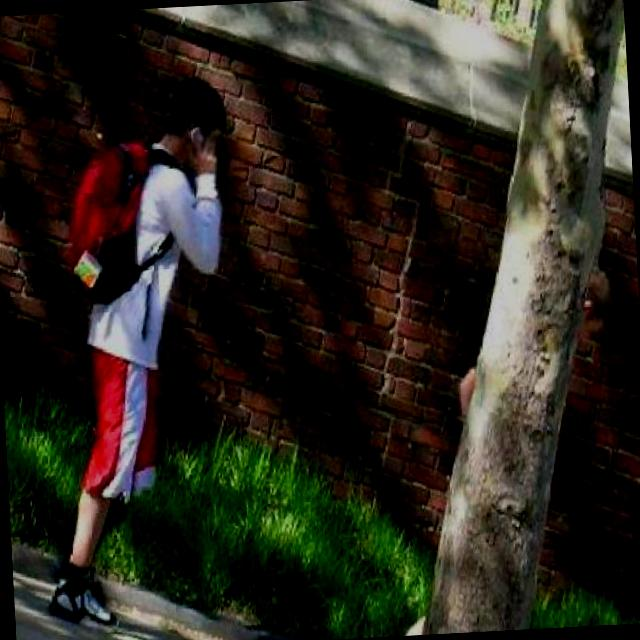Person: (25, 70, 254, 632)
